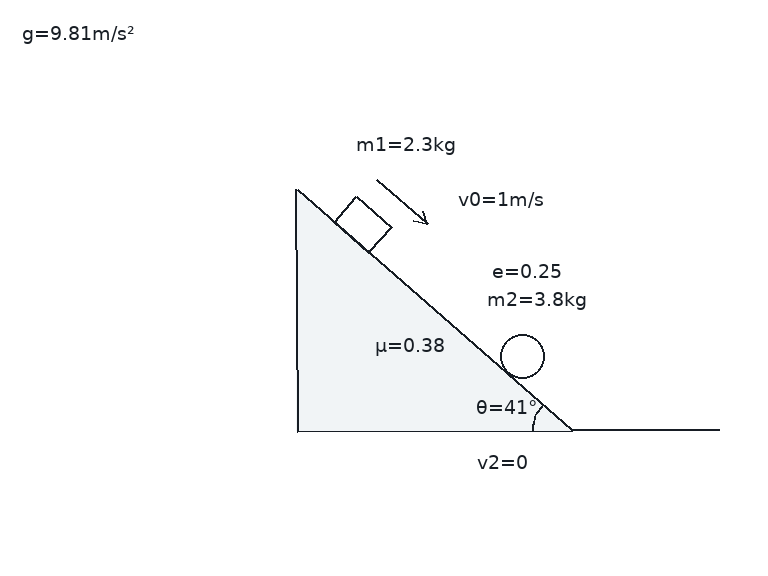ball: (498, 332, 546, 380)
block: (332, 194, 393, 255)
ramp: (295, 188, 575, 432)
